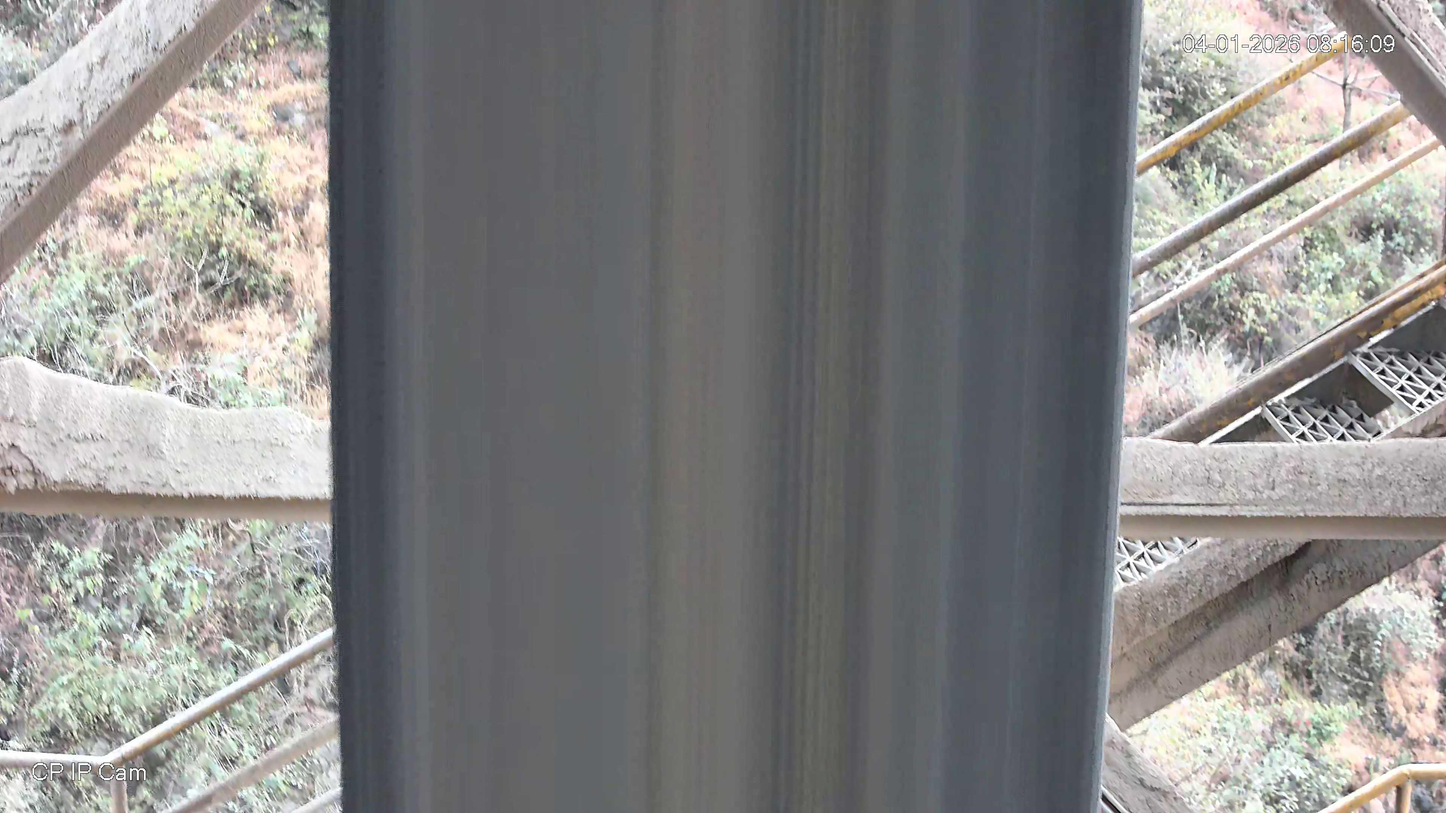belt_roi: (330, 0, 1140, 813)
